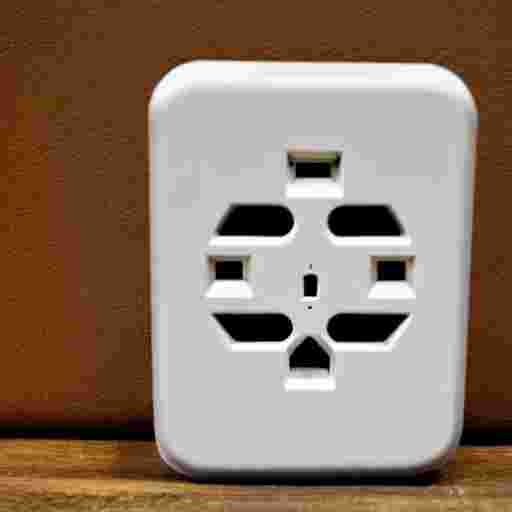power outlet: (149, 60, 476, 480)
